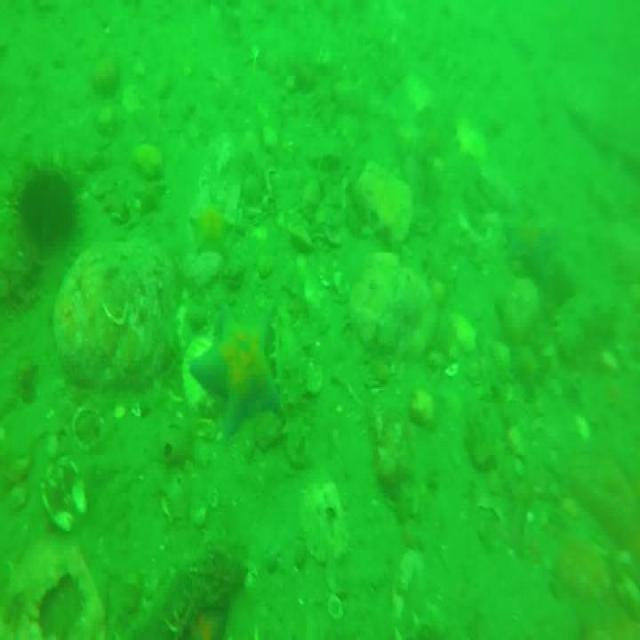echinus: (15, 155, 83, 254)
holothurian: (269, 308, 312, 471)
scallop: (304, 486, 354, 566), (39, 455, 90, 528), (392, 545, 428, 640), (185, 333, 218, 418), (97, 269, 130, 324), (460, 108, 490, 161), (455, 303, 476, 354), (304, 283, 322, 316)
starfish: (191, 311, 274, 444), (505, 209, 556, 281), (189, 194, 232, 267)
